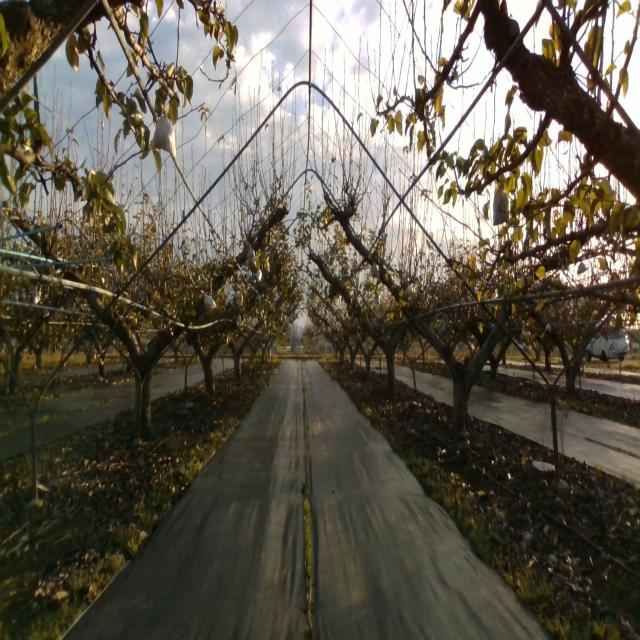pearbags: (150, 104, 174, 156), (492, 181, 510, 226), (370, 260, 380, 282)
